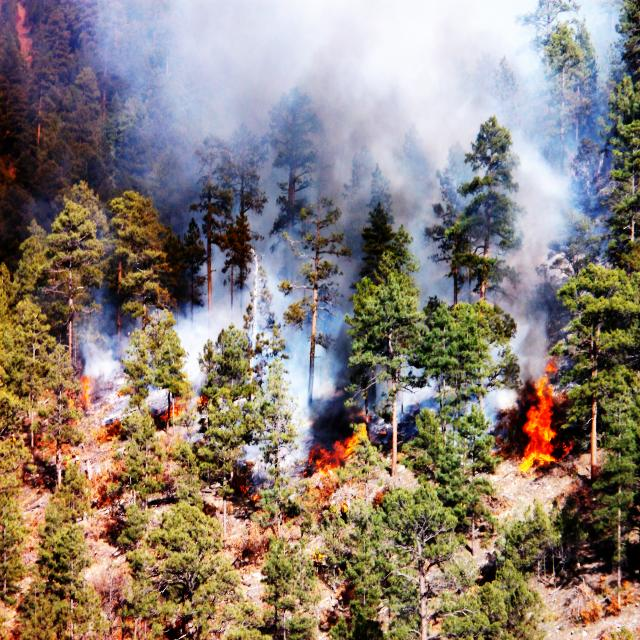api: (525, 376, 564, 485), (314, 434, 358, 477), (81, 372, 104, 411)
asap: (92, 7, 464, 210), (509, 46, 582, 231), (282, 336, 340, 412), (78, 301, 125, 371), (175, 294, 216, 362)
